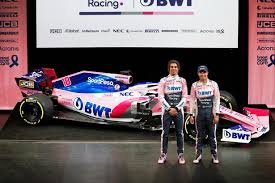FormulaOneCar: (14, 63, 271, 149)
